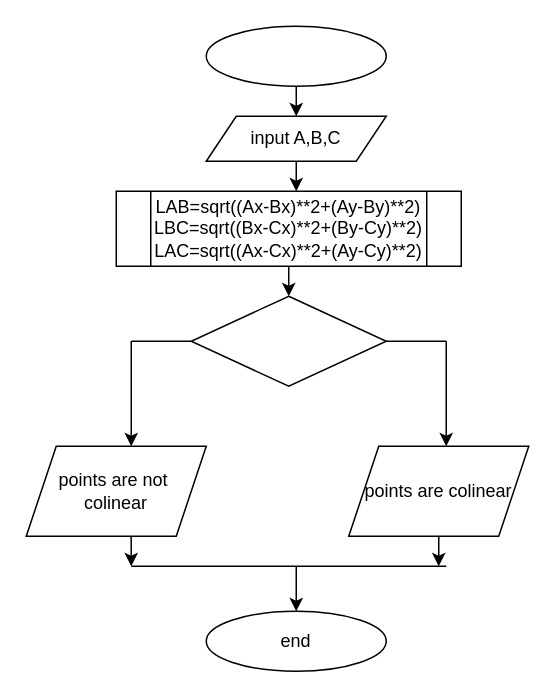
This 555x698 diagram has some shape labels left out. The shapes that lost their labels are listed below. From the top down, each one's box as (x1, y1, x2, y2) in pixels, then its label:
(205, 25, 386, 86): begin
(190, 295, 386, 386): LAB+LBC=LAC
